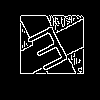E: (25, 25, 76, 81)
